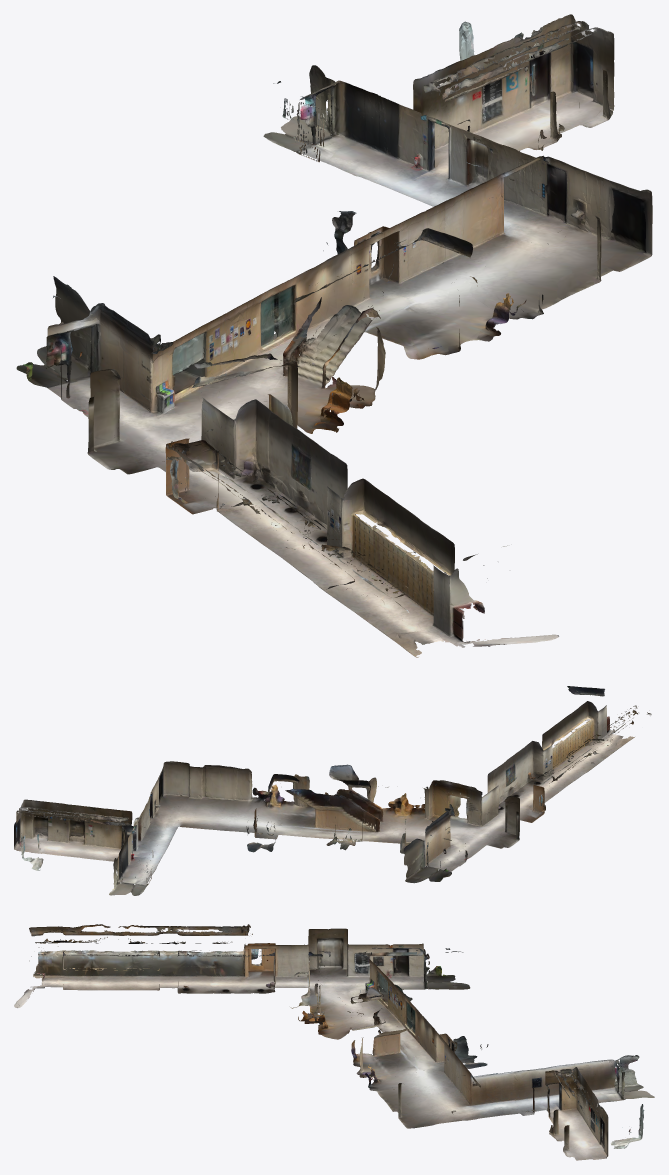
Rendered from sim.glb.
3 views of the same model, one above another, from view 1: azimuth 30°, elevation 25°; view 2: azimuth 150°, elevation 25°; view 3: azimuth 270°, elevation 25° (orthographic). The views are drawn at different scales.
Visible parts, largest first — view 1: mesh; view 2: mesh; view 3: mesh.
Part boxes in pixels (bbox=[...]): mesh: bbox=[16, 14, 652, 657]; mesh: bbox=[14, 686, 651, 895]; mesh: bbox=[14, 924, 654, 1160].
Bounding box in the file's own units: 37.01 × 5.15 × 49.87.
Materials: 1 (1 with a texture image).
